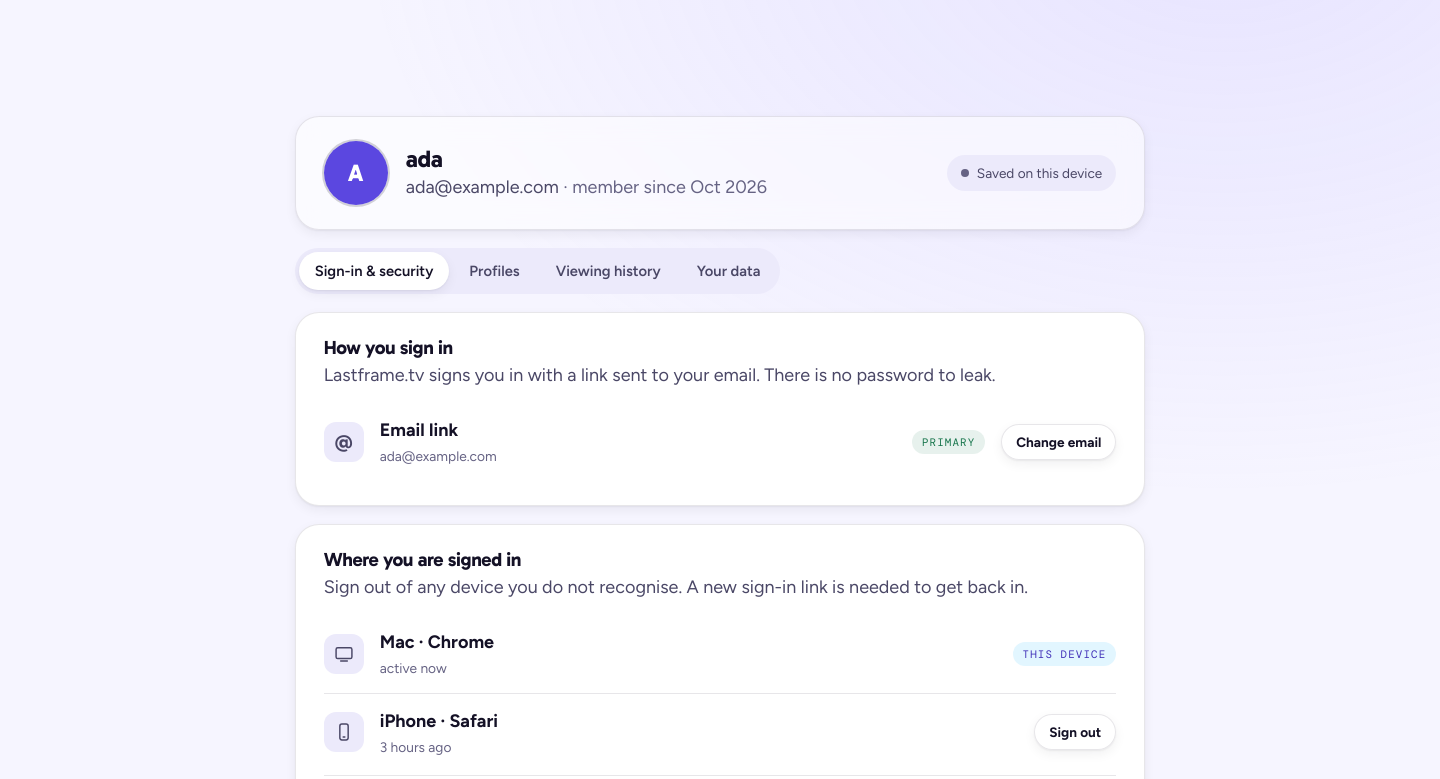
it: AccountPage: signed in › lists devices from the adapter and signs one out
expect the number of list items is 2: met, box [324,631,1116,676]; [324,693,1116,771]
expect the text "Mac · Chrome" is shown: met, box [380,631,494,653]
What coordinates should you click on to do the following:
click the button with aria-label "Sign out iPhone · Safari"
I would click on:
 (1075, 732)
Its box is [1034,714,1116,750].
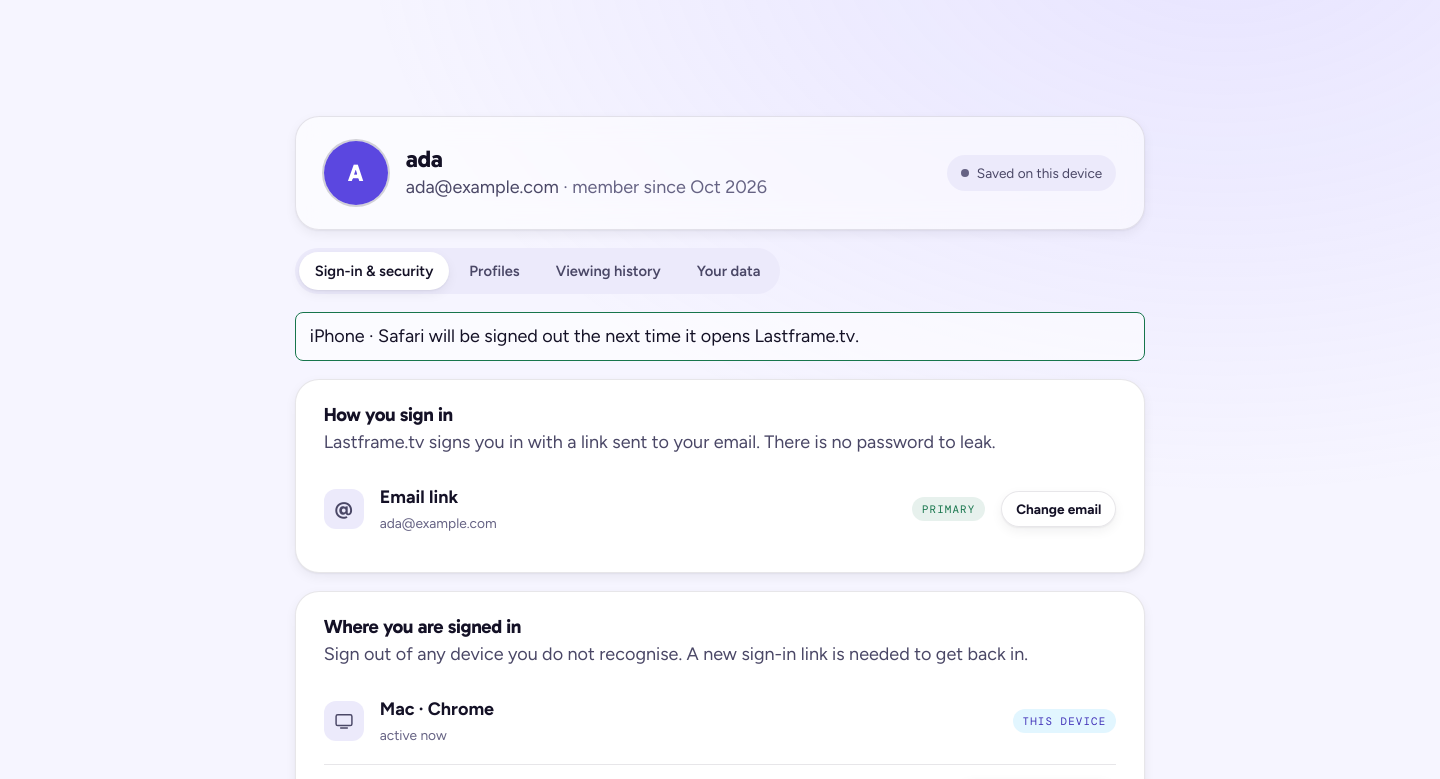
expect the message shows "iPhone · Safari will be signed out": met, box [310,325,859,347]
